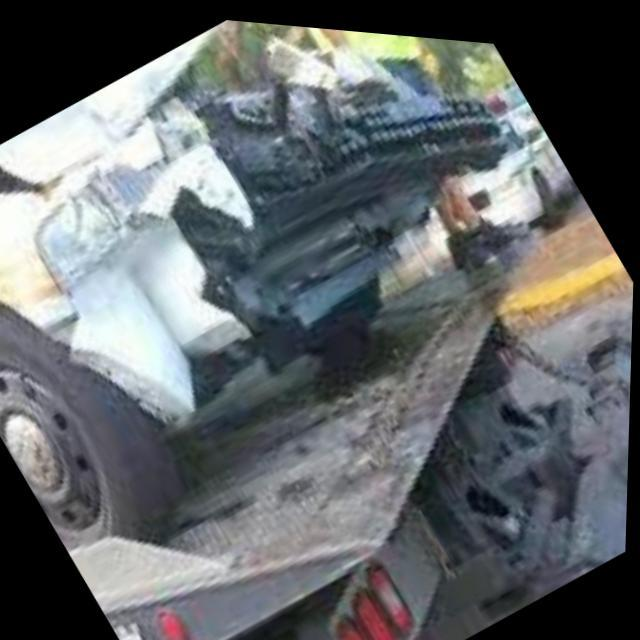dislocated part: (0, 20, 218, 192)
no part: (169, 77, 499, 334)
